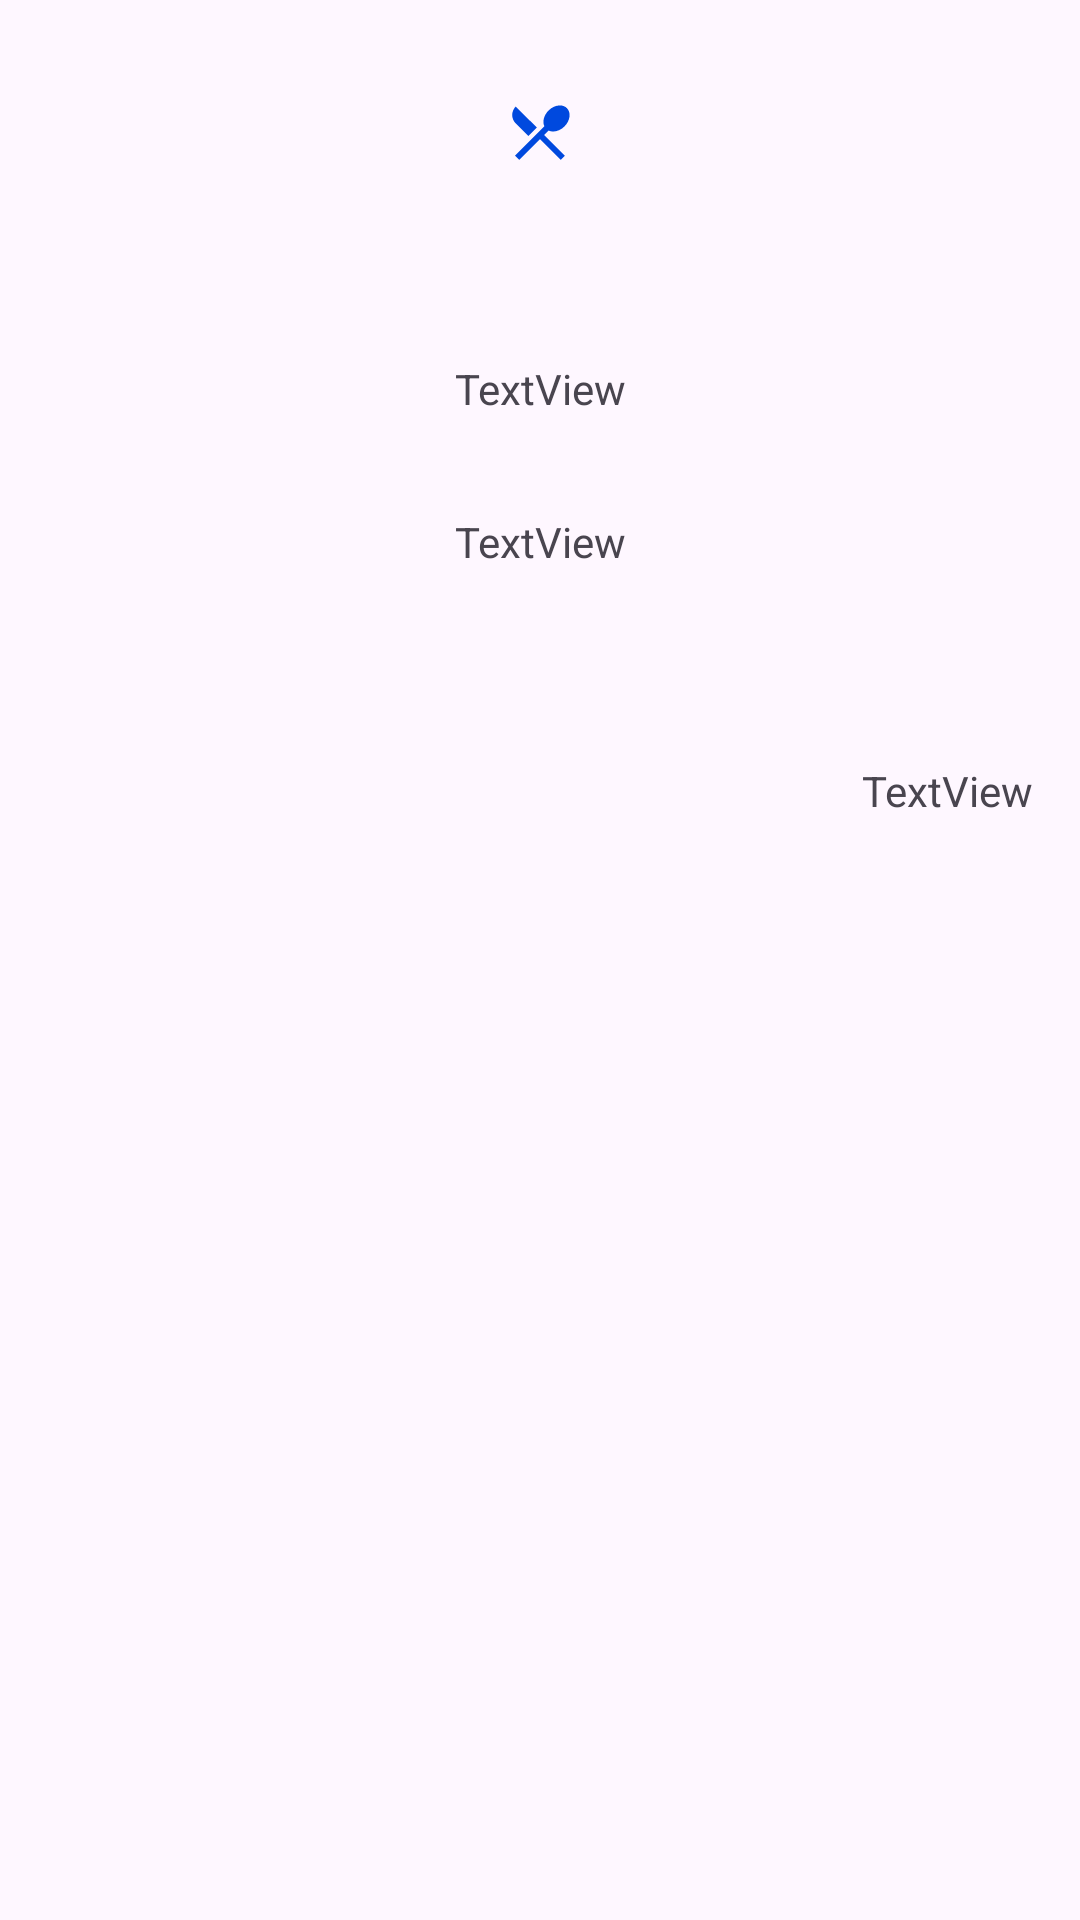

Icon bounding boxes for this 1080 × 1920 phone screenshot, format (x1, y1, x2, y2):
restaurant menu: (512, 105, 570, 160)
